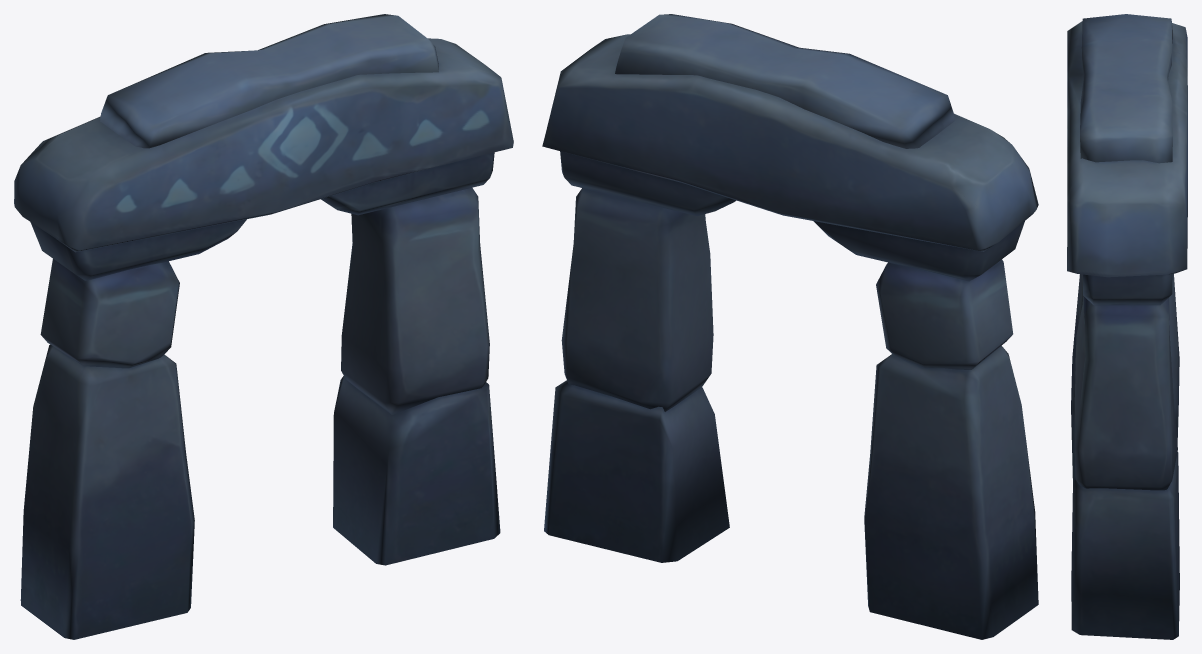
Rendered from Meshy_AI_model_20261128_texture.fbx.
3 views of the same model, side by side, from view 1: azimuth 30°, elevation 25°; view 2: azimuth 150°, elevation 25°; view 3: azimuth 270°, elevation 25° (orthographic). The views are drawn at different scales.
Parts seen in each view (by area): view 1: geometry_0; view 2: geometry_0; view 3: geometry_0.
Part boxes in pixels (x1=…): geometry_0: x1=14, y1=14, x2=513, y2=639; geometry_0: x1=542, y1=14, x2=1038, y2=639; geometry_0: x1=1067, y1=14, x2=1187, y2=639.
Bounding box in the file's own units: 92.99 × 100 × 22.83.
1 material, 1 textured.
